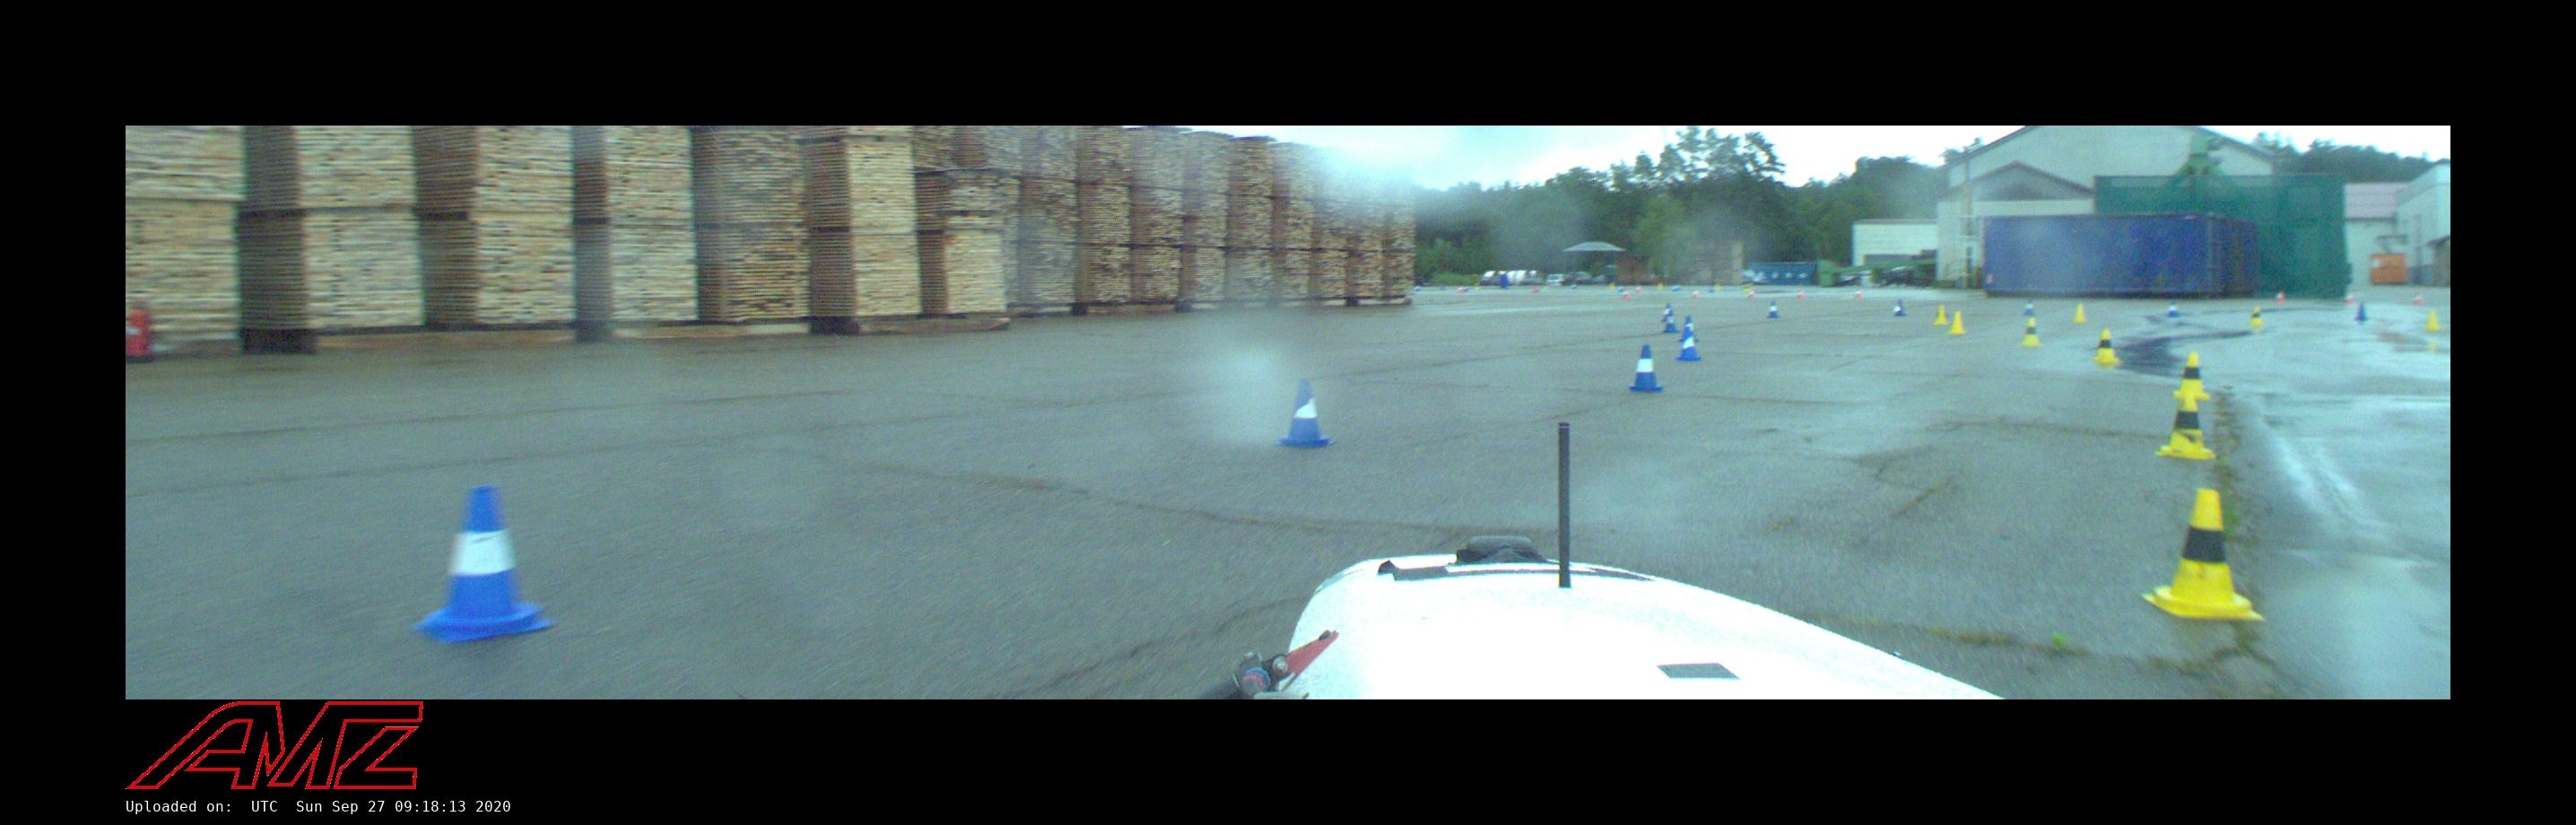blue_cone: (412, 486, 555, 643), (1275, 380, 1334, 447), (1628, 345, 1664, 391), (1676, 329, 1700, 360), (1686, 316, 1699, 342), (1663, 314, 1681, 332), (2354, 302, 2367, 320), (1661, 302, 1671, 322), (1768, 301, 1779, 317), (1894, 301, 1906, 316), (2024, 299, 2034, 316)
yellow_cone: (2142, 490, 2264, 620), (2155, 389, 2216, 459), (2173, 352, 2210, 398), (2093, 329, 2118, 362), (2022, 319, 2040, 345), (1948, 311, 1965, 334), (1934, 306, 1948, 325), (2425, 311, 2438, 330), (2249, 307, 2262, 325), (2072, 306, 2085, 322)
